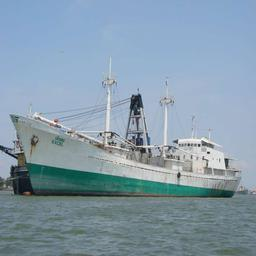Ship: (6, 57, 247, 201)
